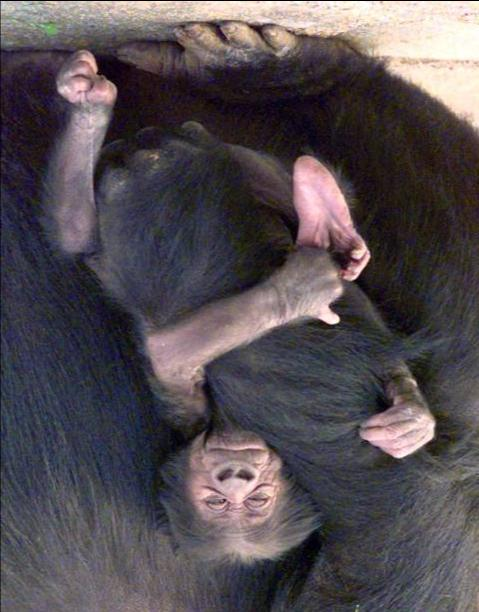gorille_Autres: (22, 29, 437, 565)
